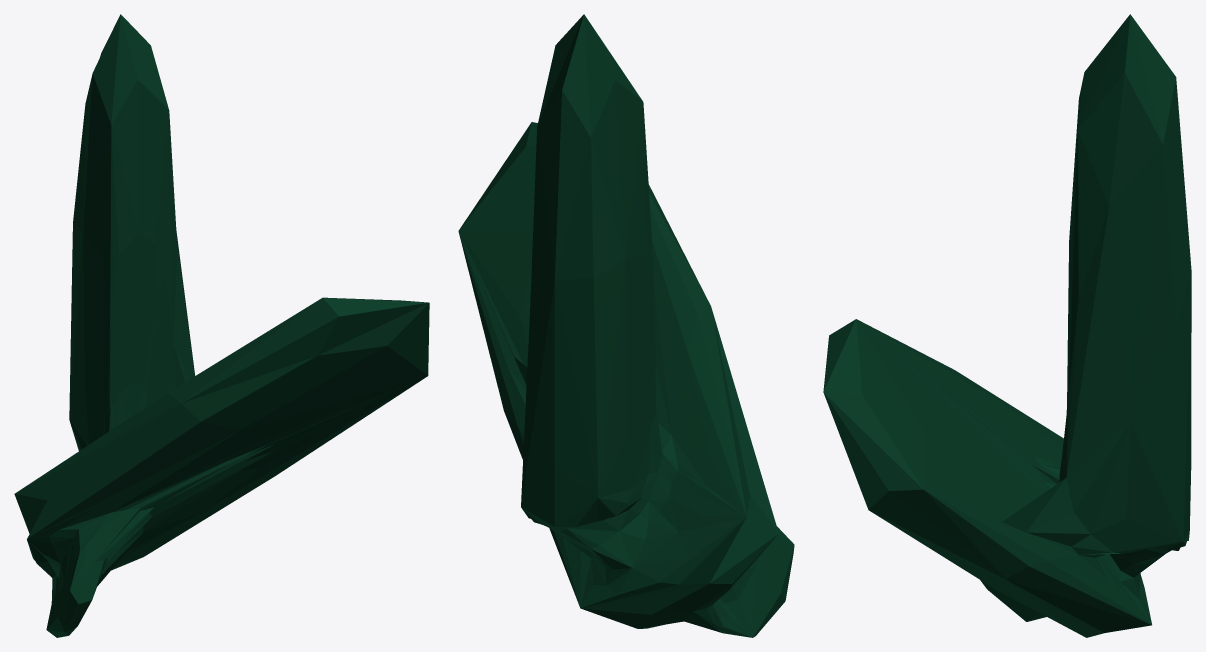
The picture shows the model from 3 angles, left to right: view 1: azimuth 30°, elevation 25°; view 2: azimuth 150°, elevation 25°; view 3: azimuth 270°, elevation 25°; orthographic projection. The views are drawn at different scales.
Parts seen in each view (by area): view 1: 397_Cube.1611; view 2: 397_Cube.1611; view 3: 397_Cube.1611.
Boxes of the visible parts, x1=… form: 397_Cube.1611: x1=14, y1=14, x2=429, y2=637; 397_Cube.1611: x1=458, y1=14, x2=794, y2=637; 397_Cube.1611: x1=823, y1=14, x2=1191, y2=637.
Size of the model in its own units: 9.44 by 15.24 by 7.67.
